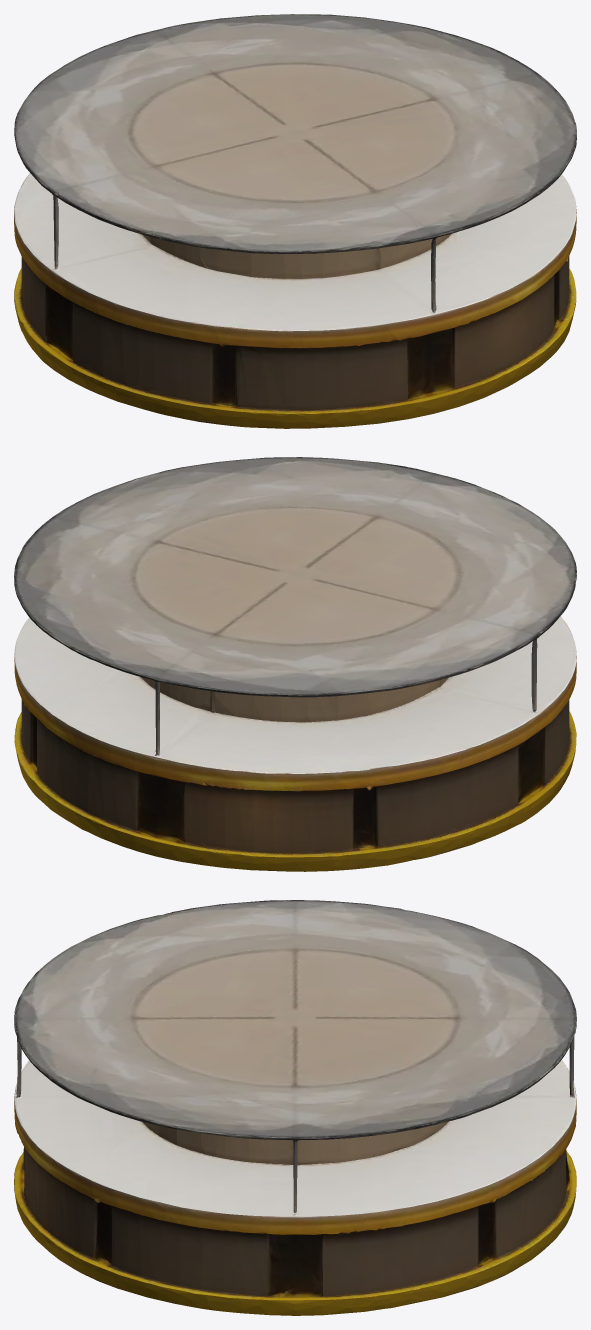
The picture shows the model from 3 angles, top to bottom: view 1: azimuth 30°, elevation 25°; view 2: azimuth 150°, elevation 25°; view 3: azimuth 270°, elevation 25°; orthographic projection.
Visible parts, largest first — view 1: geometry_0; view 2: geometry_0; view 3: geometry_0.
Part boxes in pixels (x1,y1,x2,y2): geometry_0: [14, 14, 576, 428]; geometry_0: [14, 457, 576, 871]; geometry_0: [14, 900, 576, 1315].
Bounding box in the file's own units: 0.9997 × 0.3529 × 0.9996.
Materials: 1 (1 with a texture image).
